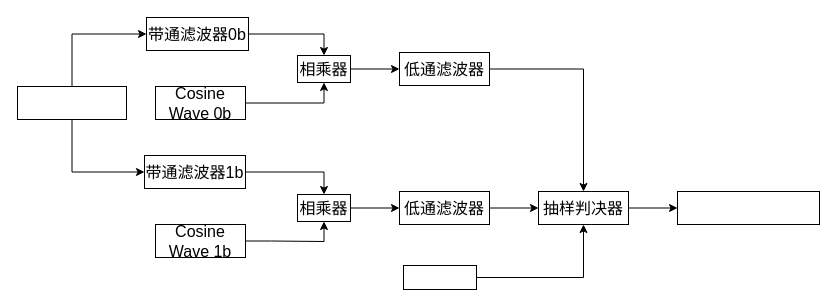
Some shapes in this 837 by 307 pixel diagram are drawn without their labels. The centre of each missing label's shape, as x and y in pixels:
"BFSK信号输入" belongs at [71,103].
"BFSK解调信号输出" belongs at [748,207].
"抽样脉冲" belongs at [439,277].
